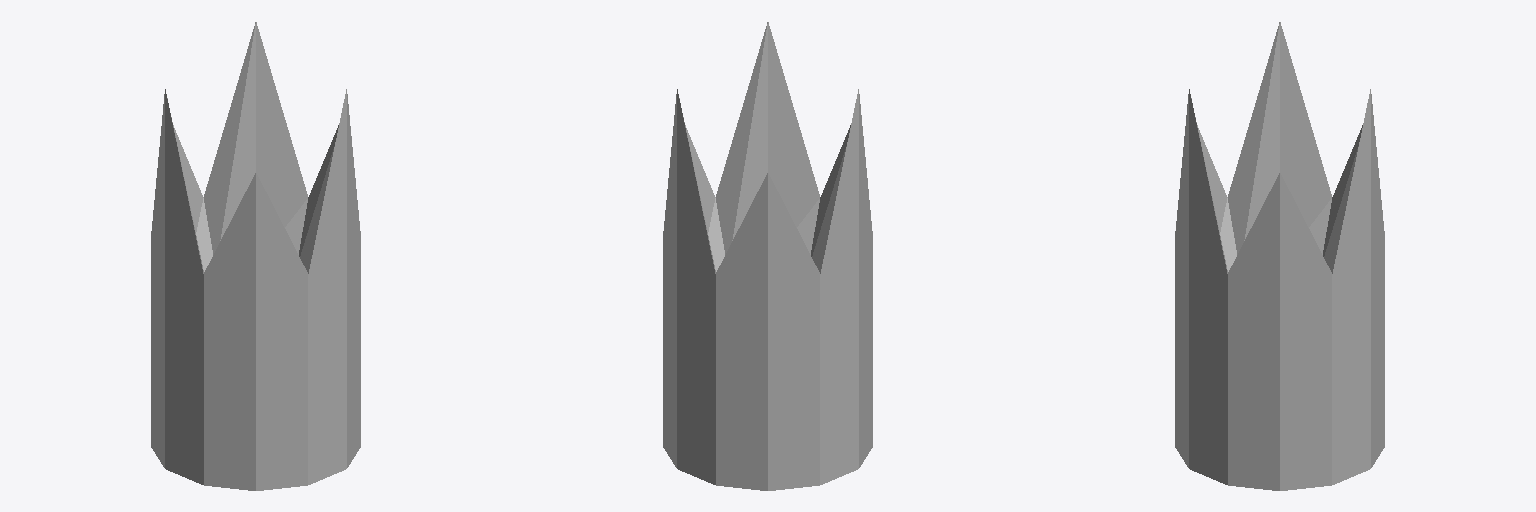
The model's file is blast.obj.
3 views of the same model, side by side, from view 1: azimuth 30°, elevation 25°; view 2: azimuth 150°, elevation 25°; view 3: azimuth 270°, elevation 25° (orthographic).
Visible parts, largest first — view 1: ExplosionCylinder; view 2: ExplosionCylinder; view 3: ExplosionCylinder.
Part boxes in pixels (bbox=[...]): ExplosionCylinder: bbox=[151, 22, 360, 490]; ExplosionCylinder: bbox=[663, 22, 872, 490]; ExplosionCylinder: bbox=[1175, 22, 1384, 490].
Bounding box in the file's own units: 0.9 × 1.81 × 0.9.